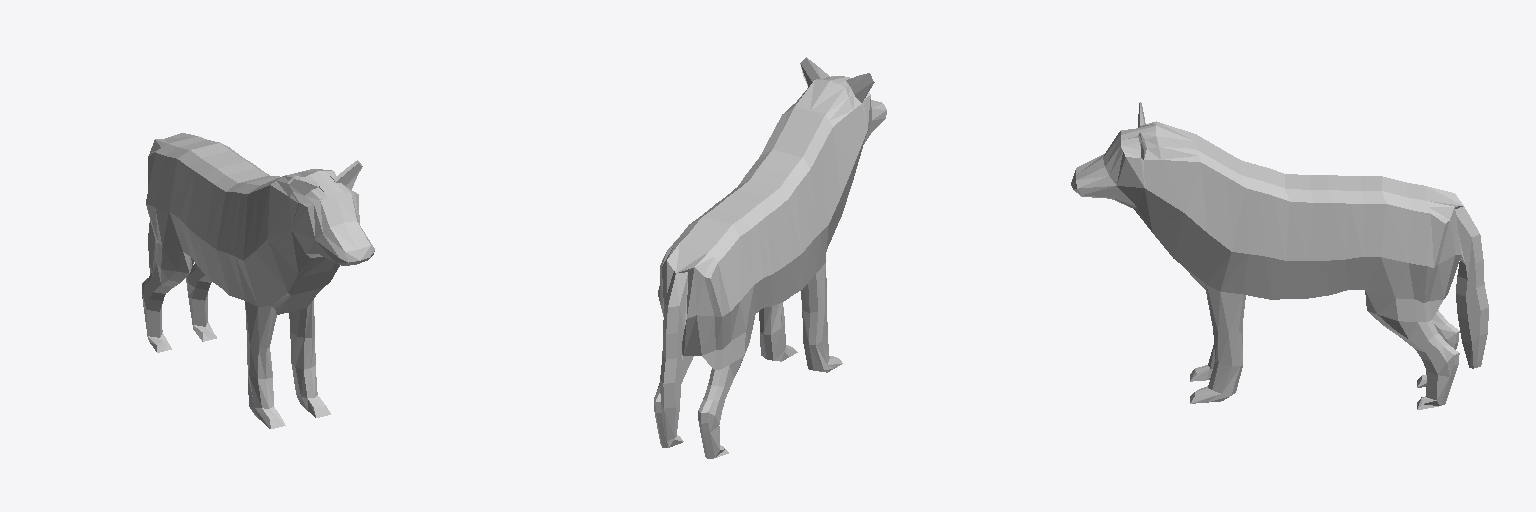
File: wolf.obj
3 renders of one model, left to right at view 1: azimuth 30°, elevation 25°; view 2: azimuth 150°, elevation 25°; view 3: azimuth 270°, elevation 25°, orthographic.
Parts seen in each view (by area): view 1: Plane; view 2: Plane; view 3: Plane.
Boxes of the visible parts, box(x1,y1,x2,y2) form: Plane: box(142, 133, 374, 428); Plane: box(654, 57, 886, 458); Plane: box(1071, 102, 1488, 409).
Size of the model in its own units: 1.7 by 6.14 by 8.32.